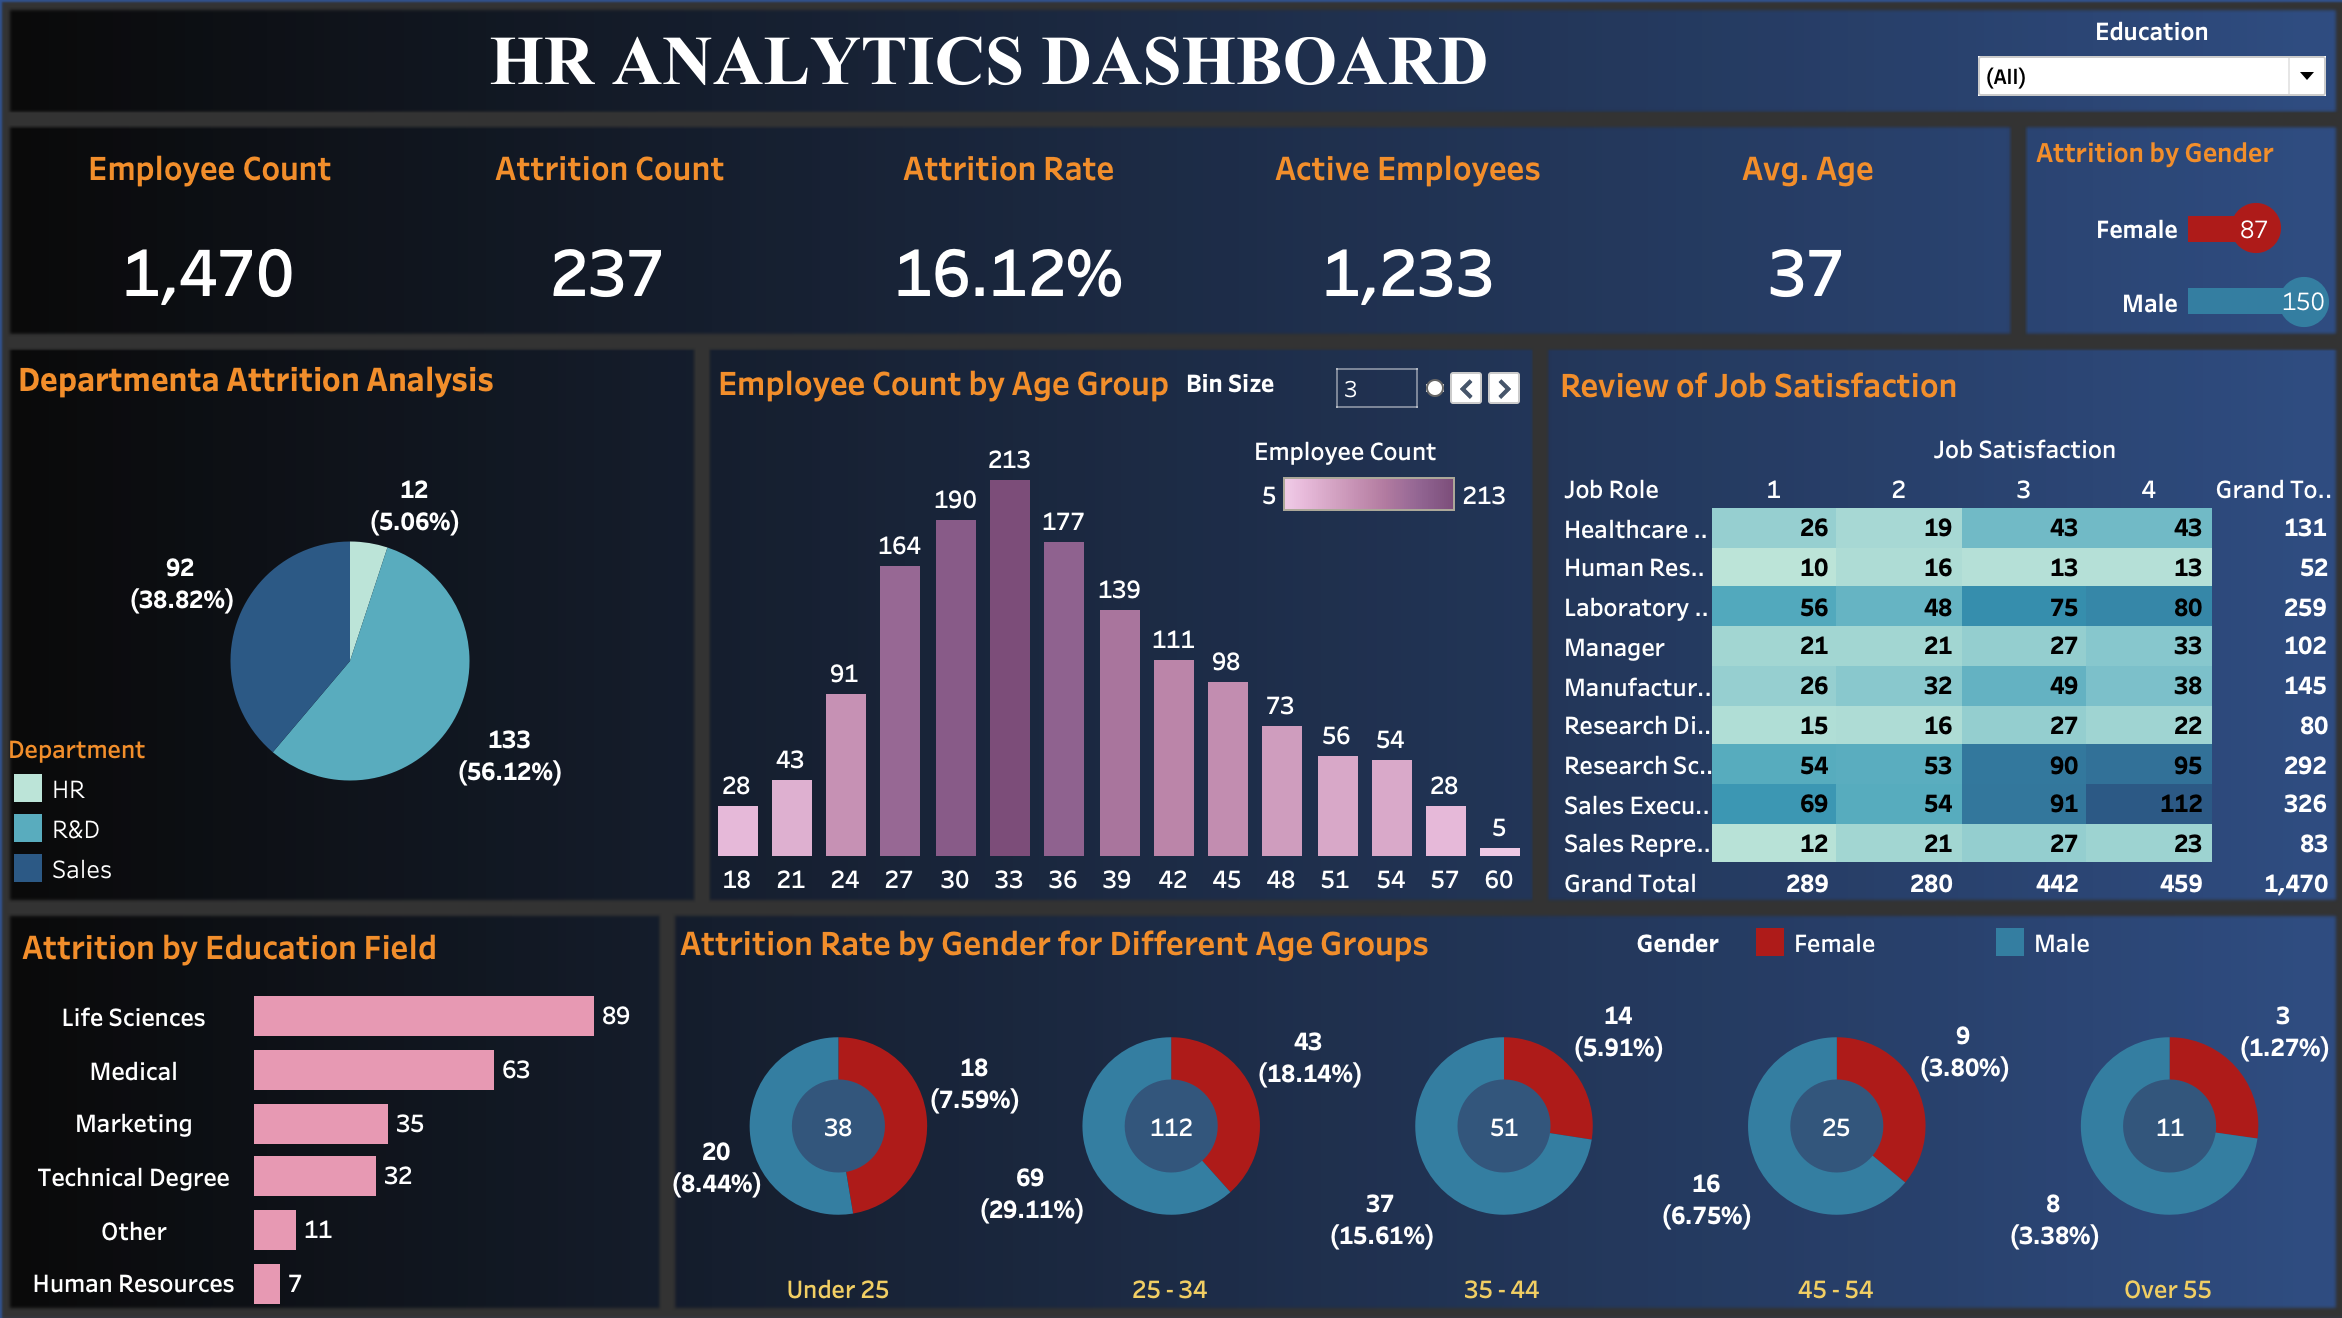

The dashboard page shown, as its layout file describes it:
{"tool":"tableau","page":{"name":"HR Analytics Dashboard","canvas":[1000,1000],"units":"permille","ordinal":0},"visuals":[{"type":"image","param":"Image/HR background.png","box":[6.5,10.4,26,979.2]},{"type":"image","param":"Image/HR background.pptx.png","box":[32.5,10.4,961,979.2]},{"type":"text","box":[39.9,75.5,796.6,69]},{"type":"filter","title":"Departmenta Attrition Analysis","param":"[federated.1q6ucec1ezecuh16api8t1t5s9ul].[none:Education:nk]","box":[838.1,79.4,146.5,62.5]},{"type":"worksheet","title":"Attrition by Gender","mark":"Automatic","rows":["Gender"],"cols":["Calculation_822821766720106496","Calculation_822821766720106496"],"box":[860.9,152.3,125.3,138]},{"type":"worksheet","title":"KPI","mark":"Automatic","box":[39.9,153.7,812.9,135.4]},{"type":"worksheet","title":"Departmenta Attrition Analysis","mark":"Pie","box":[39.9,296.9,276.7,359.4]},{"type":"worksheet","title":"Employee Count by Age Group","mark":"Automatic","rows":["Employee Count"],"cols":["Age (bin)"],"box":[324.7,299.5,332.8,355.5]},{"type":"worksheet","title":"Review of Job Satisfaction","mark":"Square","rows":["Job Role"],"cols":["Job Satisfaction"],"box":[667.2,300.8,319,356.8]},{"type":"parameter","param":"[Parameters].[Parameter 1]","box":[518.3,306,138.3,44.3]},{"type":"legend","title":"Employee Count by Age Group","param":"[federated.1q6ucec1ezecuh16api8t1t5s9ul].[sum:Employee Count:qk]","box":[546,352.9,106.6,79.4]},{"type":"legend","title":"Departmenta Attrition Analysis","param":"[federated.1q6ucec1ezecuh16api8t1t5s9ul].[none:Department:nk]","box":[39.1,546.9,87.1,109.4]},{"type":"worksheet","title":"Attrition Rate by Gender for Different Age Groups","mark":"Pie","rows":["Calculation_890023917483704321","Calculation_890023917483704321"],"cols":["CF_age band"],"box":[309.2,664.1,677,257.8]},{"type":"worksheet","title":"Attrition by Education Field","mark":"Automatic","rows":["Education Field"],"cols":["Calculation_822821766720106496"],"box":[41.5,666.7,262,256.5]},{"type":"legend","title":"Attrition Rate by Gender for Different Age Groups","param":"[federated.1q6ucec1ezecuh16api8t1t5s9ul].[none:Gender:nk]","box":[689.2,670.6,296.2,33.9]}]}

Visuals, with their boxes on the dashboard's canvas, which has no fixed pixel size, in thousandths of its width and height (x1, y1, x2, y2). These are canvas units, not pixel positions in the 2342x1318 screenshot, which may show the page scaled, cropped or inside an application window:
image: rect(6, 10, 32, 990)
image: rect(32, 10, 994, 990)
text: rect(40, 76, 836, 144)
"Departmenta Attrition Analysis" filter: rect(838, 79, 985, 142)
"Attrition by Gender" worksheet: rect(861, 152, 986, 290)
"KPI" worksheet: rect(40, 154, 853, 289)
"Departmenta Attrition Analysis" worksheet (Pie marks): rect(40, 297, 317, 656)
"Employee Count by Age Group" worksheet: rect(325, 300, 658, 655)
"Review of Job Satisfaction" worksheet (Square marks): rect(667, 301, 986, 658)
parameter: rect(518, 306, 657, 350)
"Employee Count by Age Group" legend: rect(546, 353, 653, 432)
"Departmenta Attrition Analysis" legend: rect(39, 547, 126, 656)
"Attrition Rate by Gender for Different Age Groups" worksheet (Pie marks): rect(309, 664, 986, 922)
"Attrition by Education Field" worksheet: rect(42, 667, 304, 923)
"Attrition Rate by Gender for Different Age Groups" legend: rect(689, 671, 985, 704)
